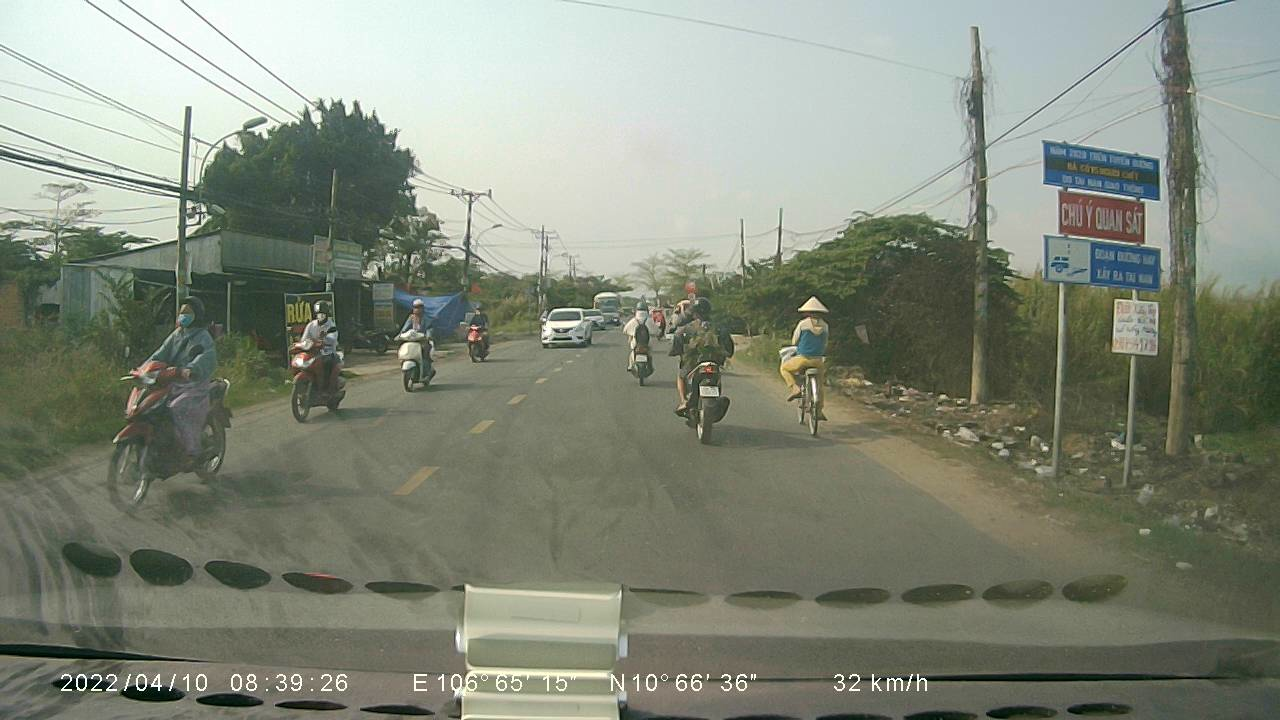Bien khac: (1040, 233, 1093, 286)
